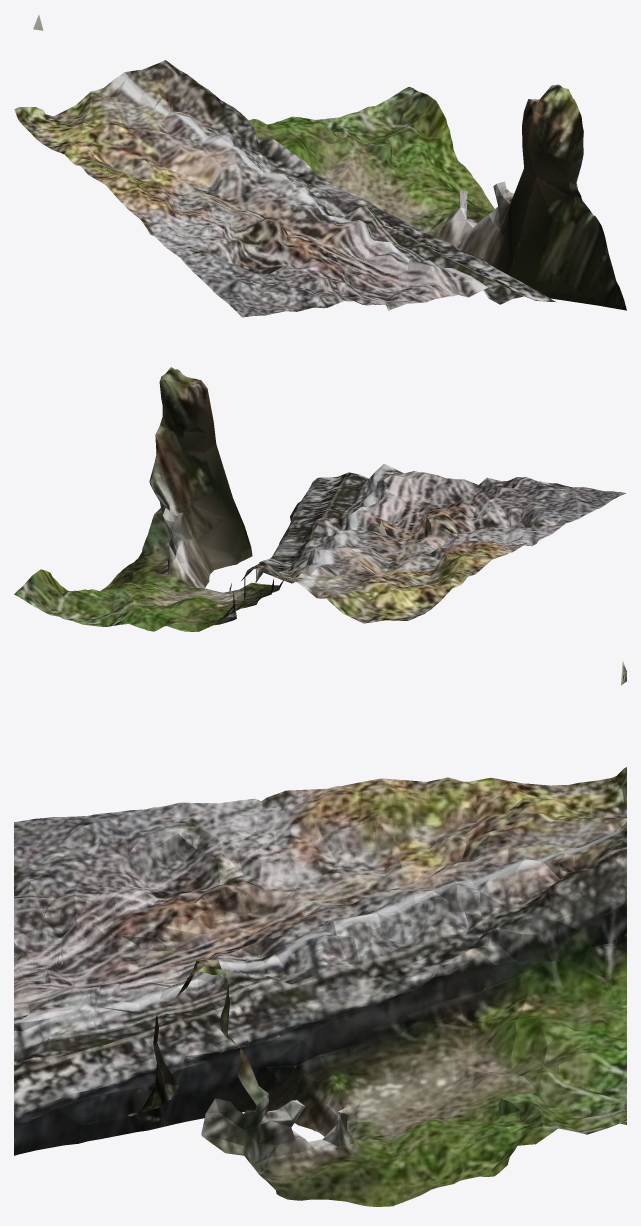
3 views of the same model, one above another, from view 1: azimuth 30°, elevation 25°; view 2: azimuth 150°, elevation 25°; view 3: azimuth 270°, elevation 25° (orthographic). The views are drawn at different scales.
Size of the model in its own units: 3.35 by 1.85 by 3.35.
Materials: 3 (3 with a texture image).
